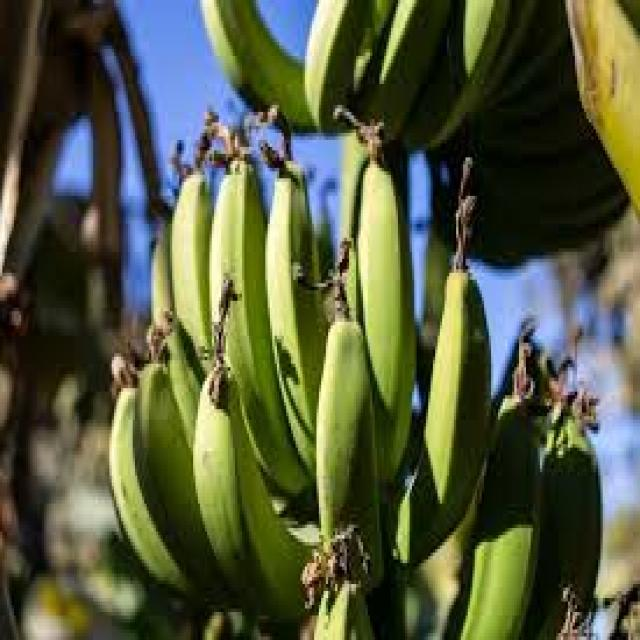banana: (117, 161, 507, 586)
